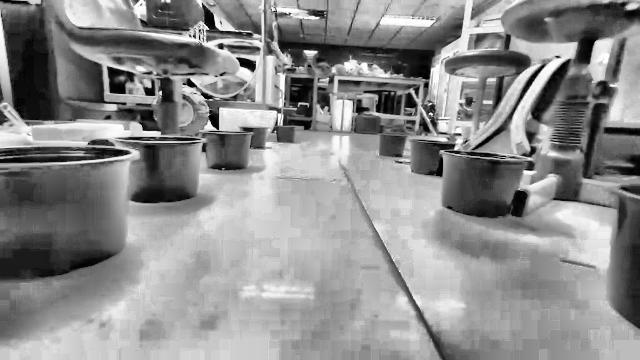pot: (0, 146, 136, 280), (110, 135, 203, 203), (441, 150, 531, 218), (609, 184, 639, 328), (201, 131, 251, 170), (410, 138, 454, 176), (379, 132, 408, 157), (239, 126, 268, 148), (276, 126, 296, 142)
